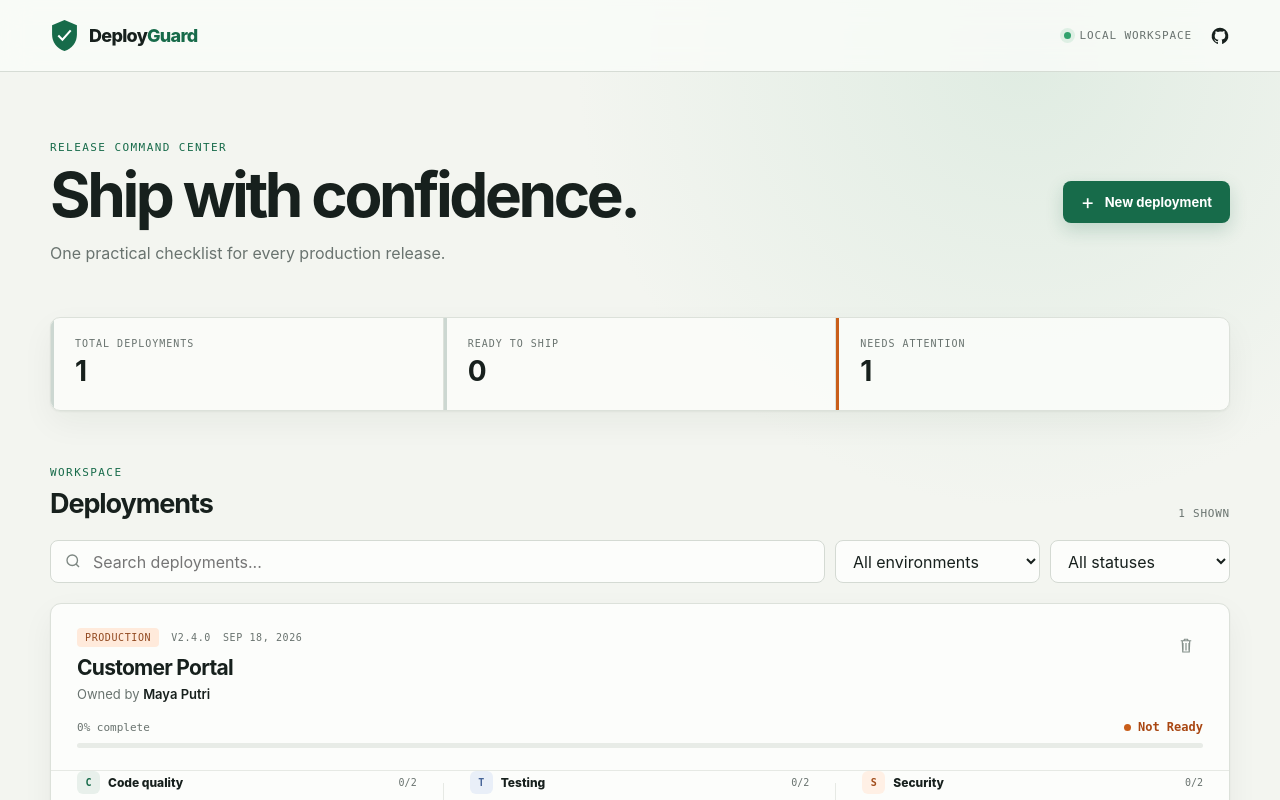
DeployGuard application › searches and filters deployments without losing saved records
The width and height of the screenshot is (1280, 800).
Type "Maya Putri" into the search field labelled "Search deployments".
click(438, 562); type("Maya Putri")  # box [50,540,825,583]
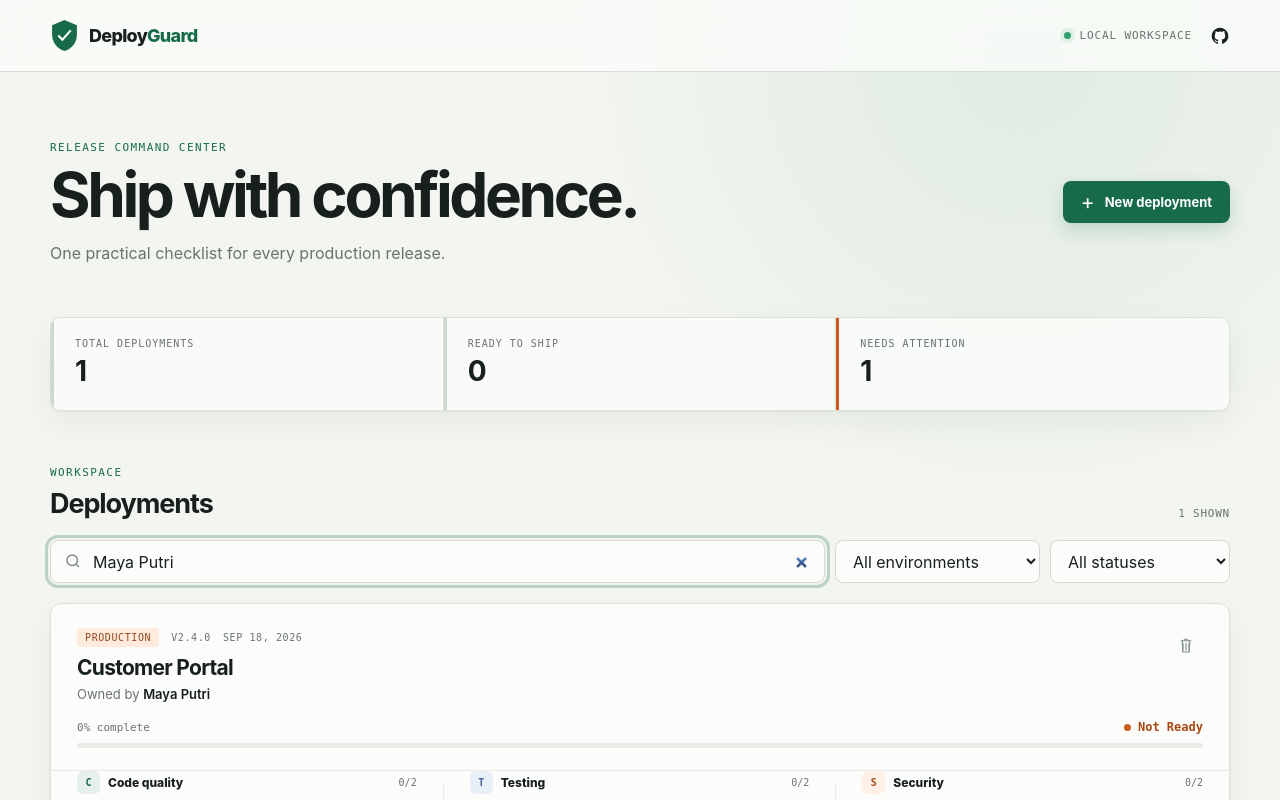
Expected: the heading "Customer Portal" is shown, [77,655,233,680]
Replace the text in the search field named "Search deployments" with "2.4.0" at (438, 562), box [50,540,825,583]
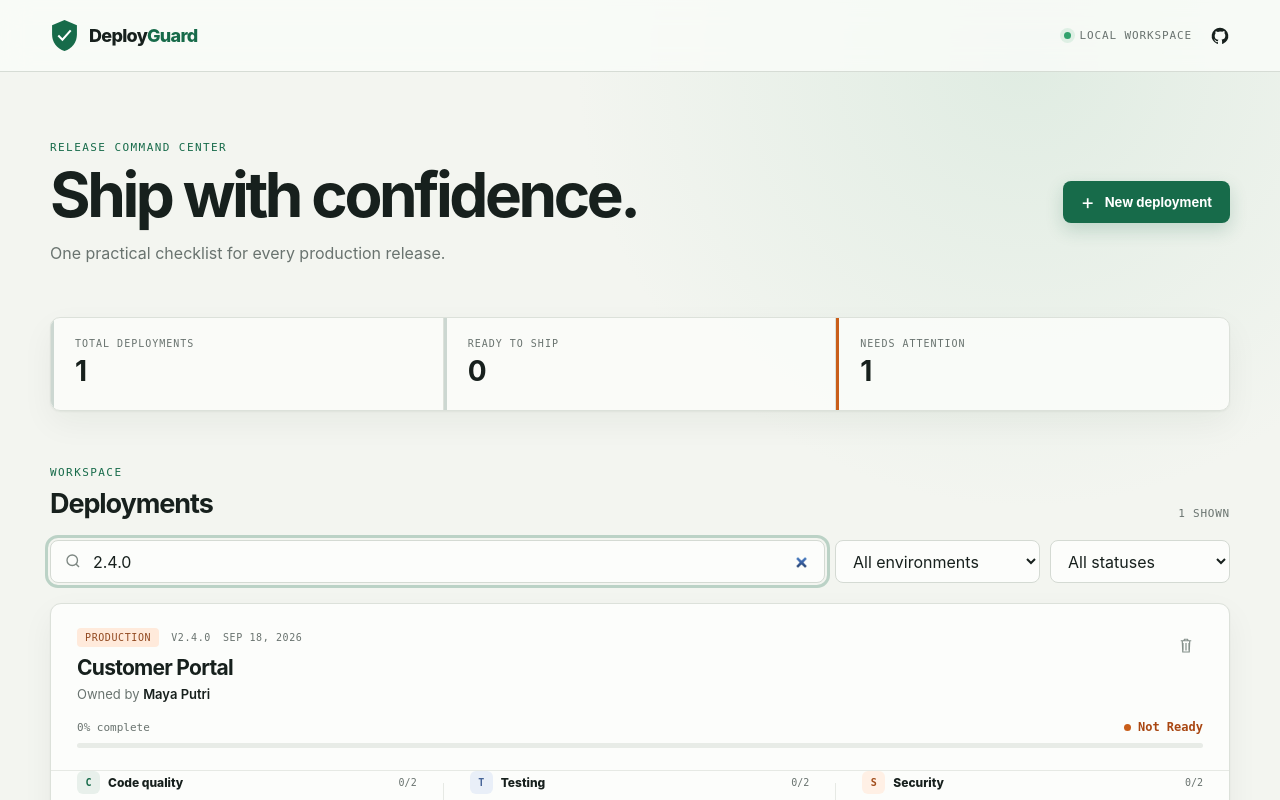
Expected: the heading "Customer Portal" is shown, [77,655,233,680]
Replace the text in the search field named "Search deployments" with "none" at (438, 562), box [50,540,825,583]
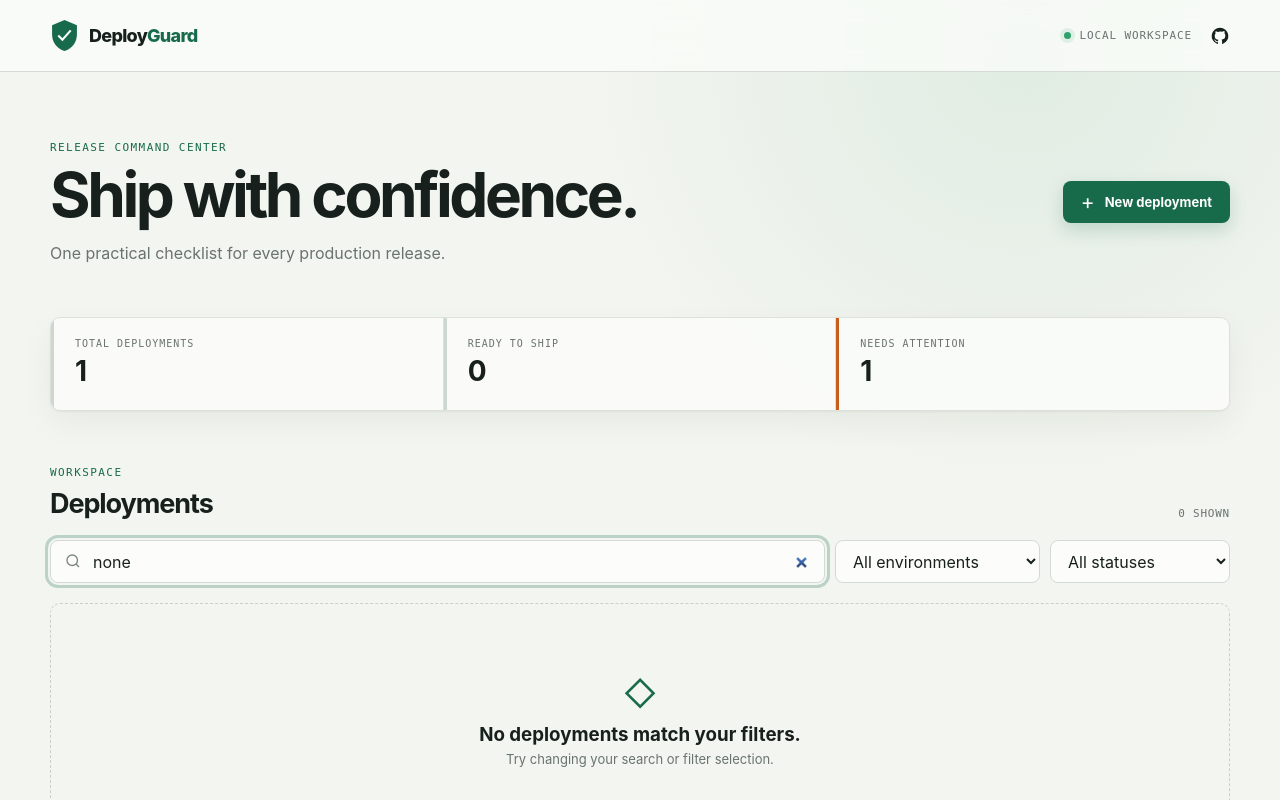
Expected: the heading "No deployments match your filters." is shown, [479,723,801,746]
Clear the search field named "Search deployments" at (438, 562), box [50,540,825,583]
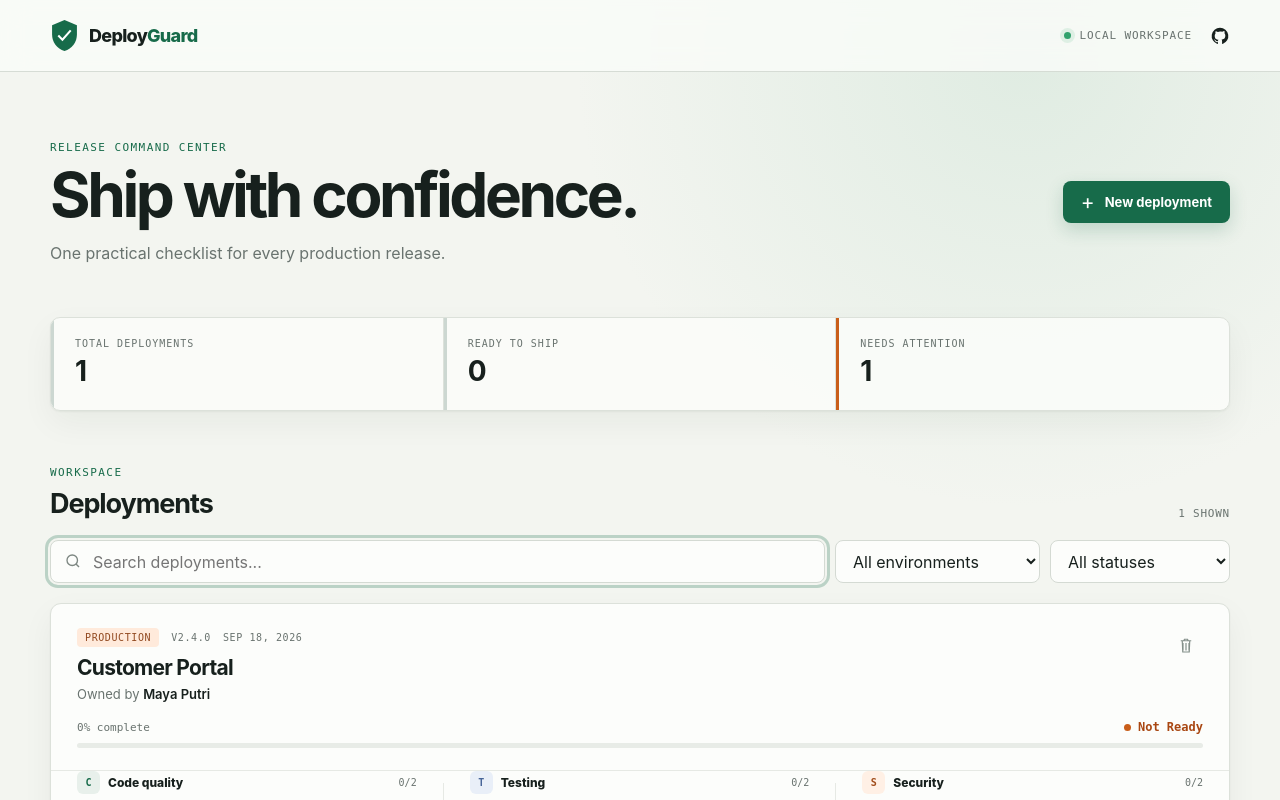
Select "Ready" in the dropdown named "Status" at (1140, 562), box [1050,540,1230,583]
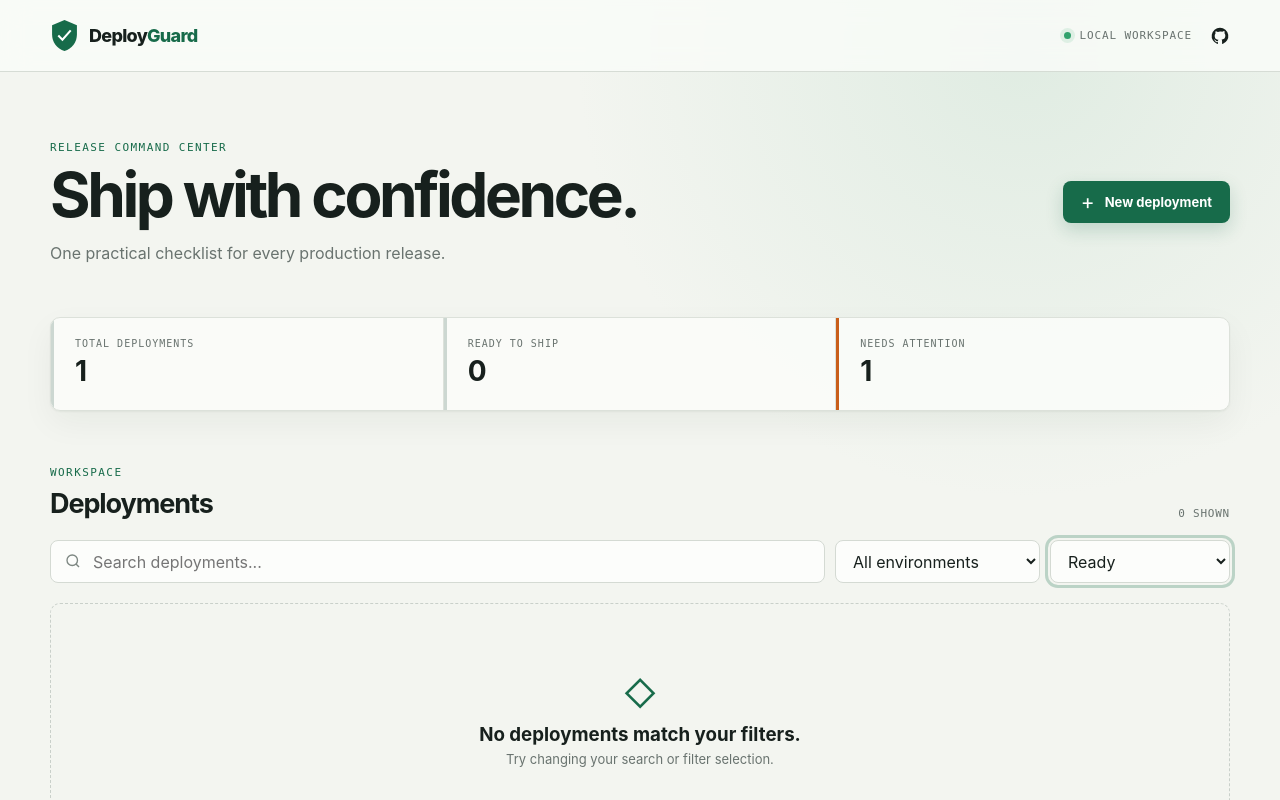
Expected: the heading "No deployments match your filters." is shown, [479,723,801,746]
Select "All statuses" in the dropdown named "Status" at (1140, 562), box [1050,540,1230,583]
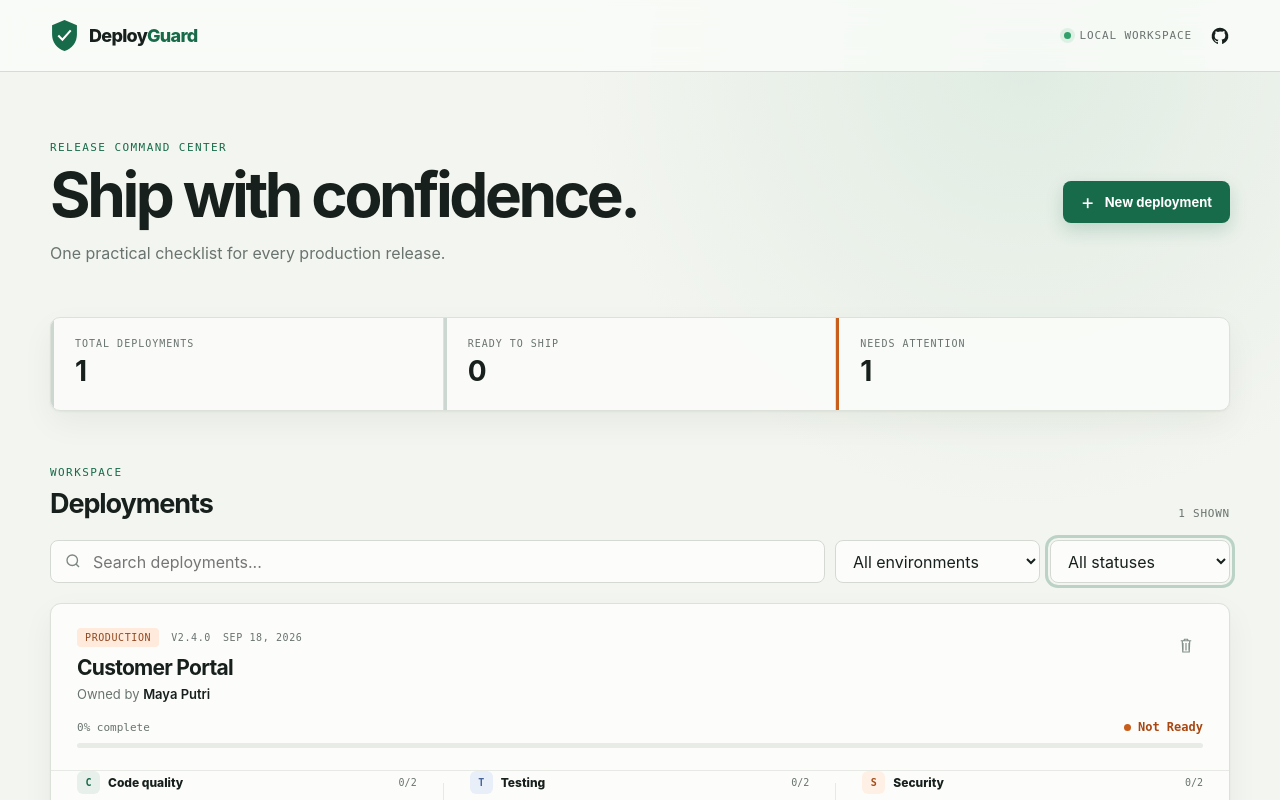
Expected: the heading "Customer Portal" is shown, [77,655,233,680]
